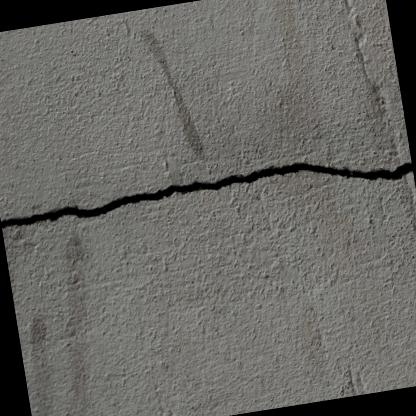crack: (0, 160, 413, 228)
